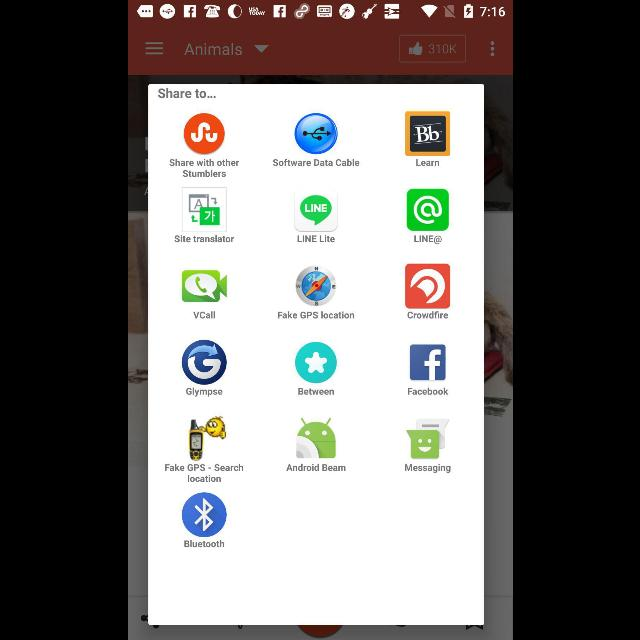icon: (182, 492, 226, 538), (409, 345, 445, 381), (144, 42, 162, 56), (254, 45, 268, 53), (490, 41, 494, 57)
image: (182, 339, 226, 385), (404, 264, 450, 308), (181, 188, 227, 232), (404, 112, 450, 156), (294, 188, 338, 232), (406, 188, 448, 232), (405, 418, 449, 459), (294, 342, 336, 384), (294, 265, 336, 307), (294, 113, 336, 155), (188, 415, 226, 461), (295, 417, 335, 459), (183, 114, 224, 154), (182, 270, 226, 302)
panel: (148, 85, 484, 625)
text: (164, 463, 243, 482), (169, 158, 239, 178), (183, 42, 241, 56), (278, 310, 354, 320), (272, 158, 358, 166), (284, 462, 346, 472), (157, 88, 215, 98), (174, 235, 234, 243), (404, 464, 450, 474), (185, 387, 222, 397), (406, 311, 448, 319), (183, 540, 224, 548), (408, 387, 448, 395), (296, 388, 334, 396), (296, 235, 334, 243), (413, 235, 441, 245), (415, 159, 439, 167), (192, 311, 215, 319)
uppertaskbar: (128, 1, 512, 23)
